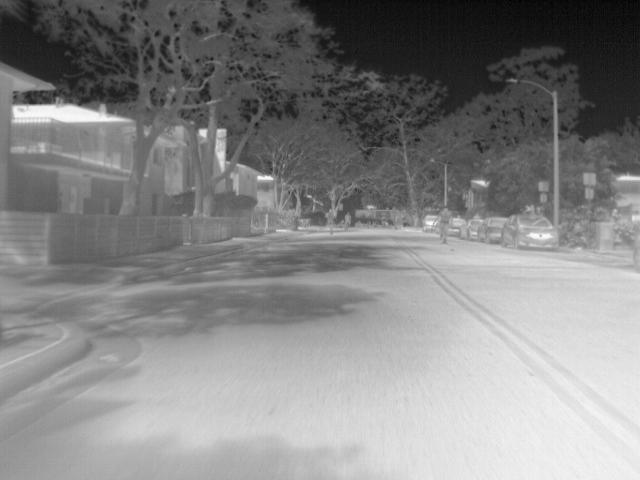car: (502, 213, 563, 251), (477, 216, 505, 243), (458, 217, 479, 242), (421, 214, 440, 233), (450, 215, 463, 234)
person: (436, 204, 451, 244), (326, 207, 338, 235), (343, 211, 353, 229)
